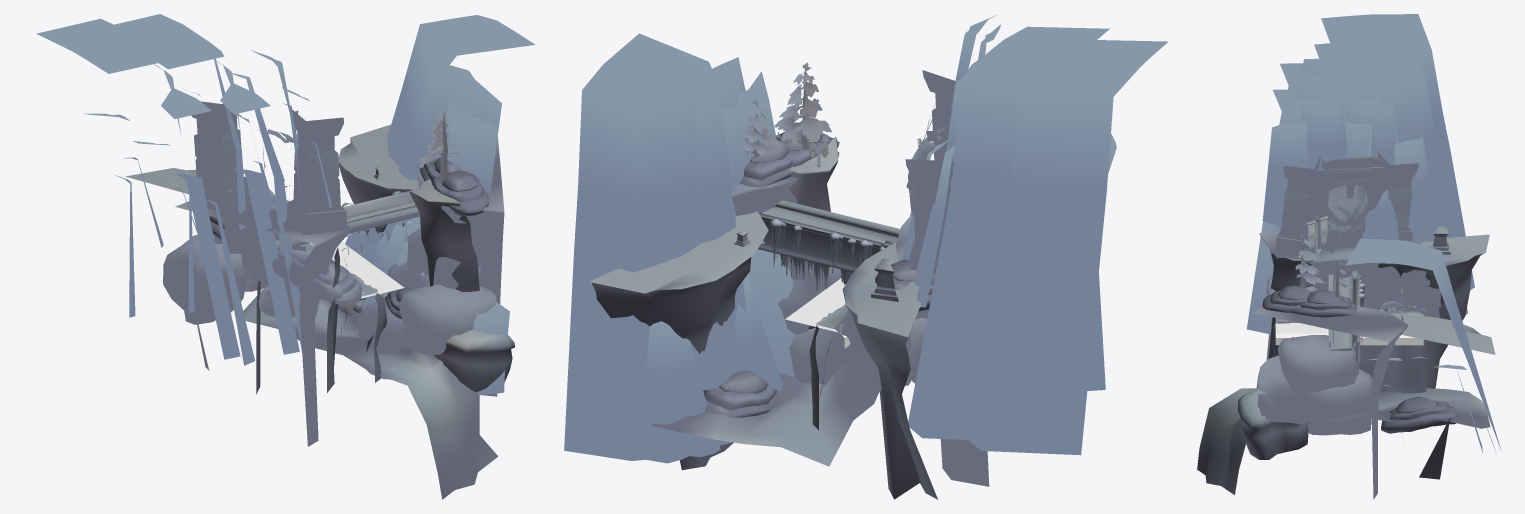
Rendered from Arctic_Narrows_Right_Slide_A.glb.
3 renders of one model, left to right at view 1: azimuth 30°, elevation 25°; view 2: azimuth 150°, elevation 25°; view 3: azimuth 270°, elevation 25°, orthographic. The views are drawn at different scales.
Parts seen in each view (by area): view 1: Arctic_Narrows_Right_Slide_A, inv_fill; view 2: Arctic_Narrows_Right_Slide_A, inv_fill; view 3: Arctic_Narrows_Right_Slide_A, inv_fill.
Boxes of the visible parts, x1=… form: Arctic_Narrows_Right_Slide_A: x1=36, y1=14, x2=535, y2=499; inv_fill: x1=310, y1=242, x2=404, y2=312; Arctic_Narrows_Right_Slide_A: x1=564, y1=15, x2=1168, y2=499; inv_fill: x1=785, y1=278, x2=850, y2=348; Arctic_Narrows_Right_Slide_A: x1=1197, y1=14, x2=1501, y2=499; inv_fill: x1=1275, y1=323, x2=1423, y2=345.
Size of what is drawn, in the model's own units: 30.66 by 27.97 by 22.64.
